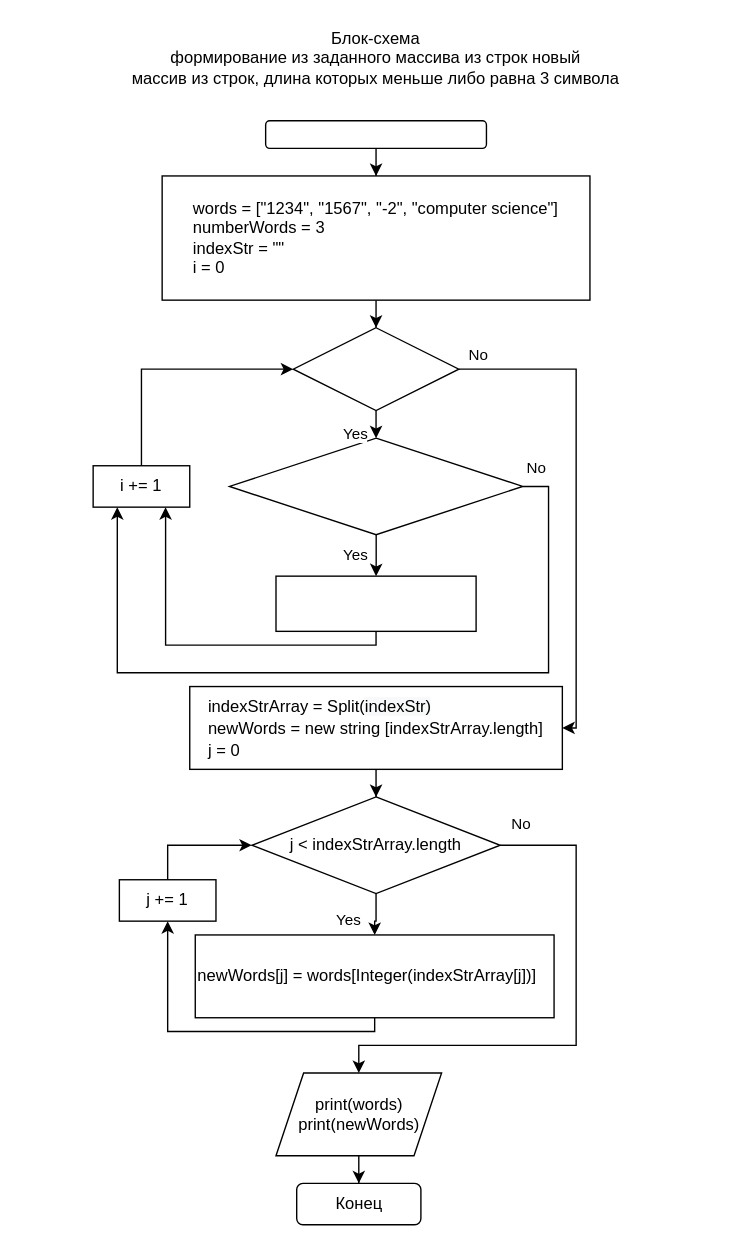
Image size: 751x1249. Some labels were removed from this diagram. Each missing label, with the centre of its shape:
i < words.length: (375,368)
indexStr += String(i) + " ": (375,603)
words[i].length <= numberWords: (375,486)
Старт: (375,133)
